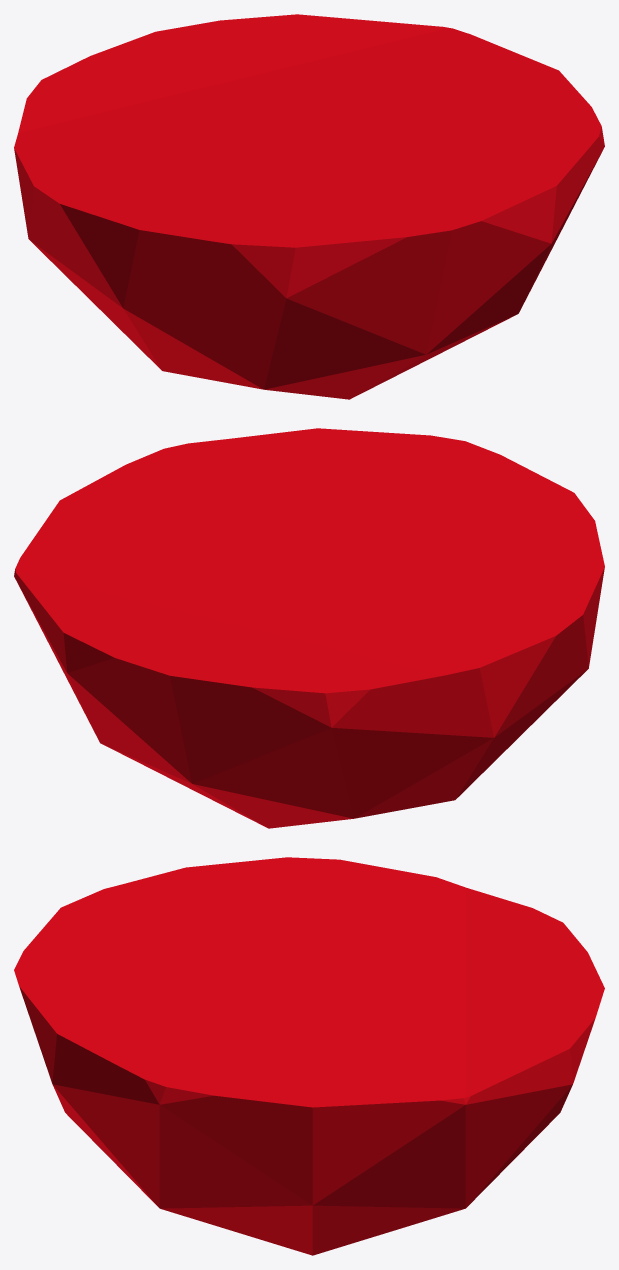
The model's file is tomato_cut.glb.
3 views of the same model, one above another, from view 1: azimuth 30°, elevation 25°; view 2: azimuth 150°, elevation 25°; view 3: azimuth 270°, elevation 25° (orthographic).
Parts seen in each view (by area): view 1: tomato_cut; view 2: tomato_cut; view 3: tomato_cut.
Part boxes in pixels (x1,y1,x2,y2): tomato_cut: (14, 14, 604, 399); tomato_cut: (14, 428, 604, 828); tomato_cut: (14, 857, 604, 1255).
Bounding box in the file's own units: 0.311 × 0.1417 × 0.3117.
